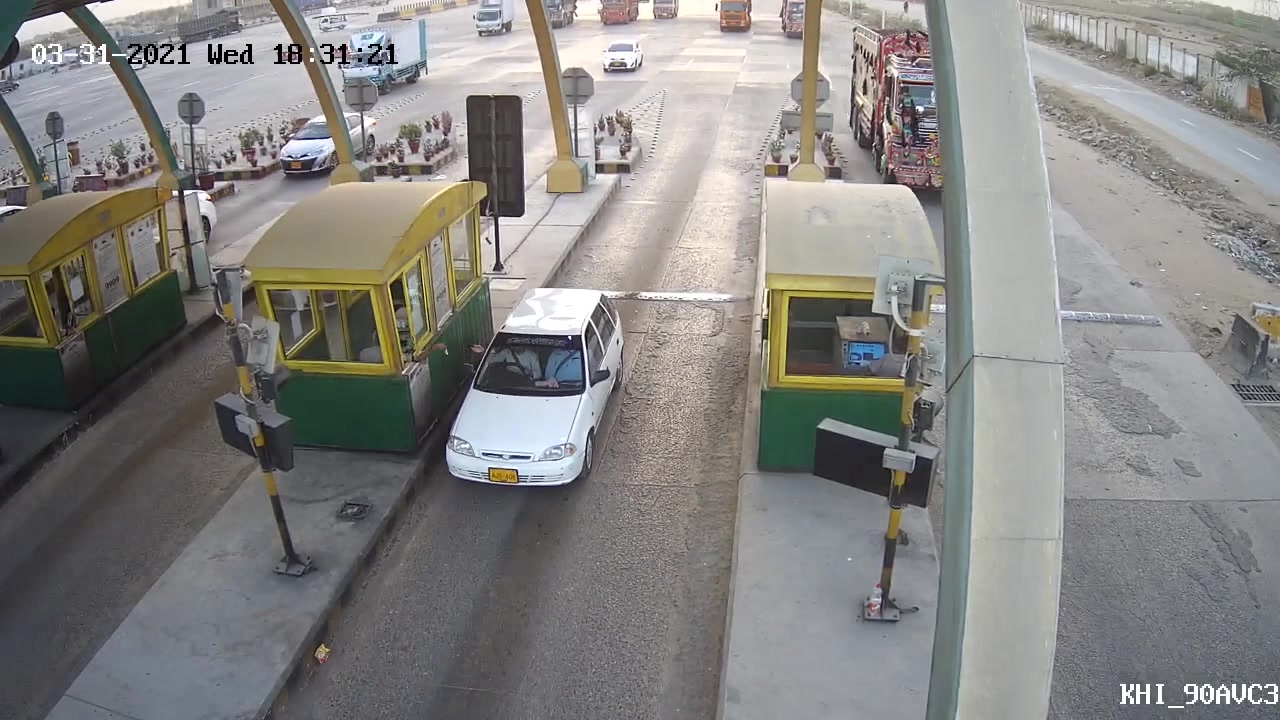F1: (439, 278, 636, 493)
